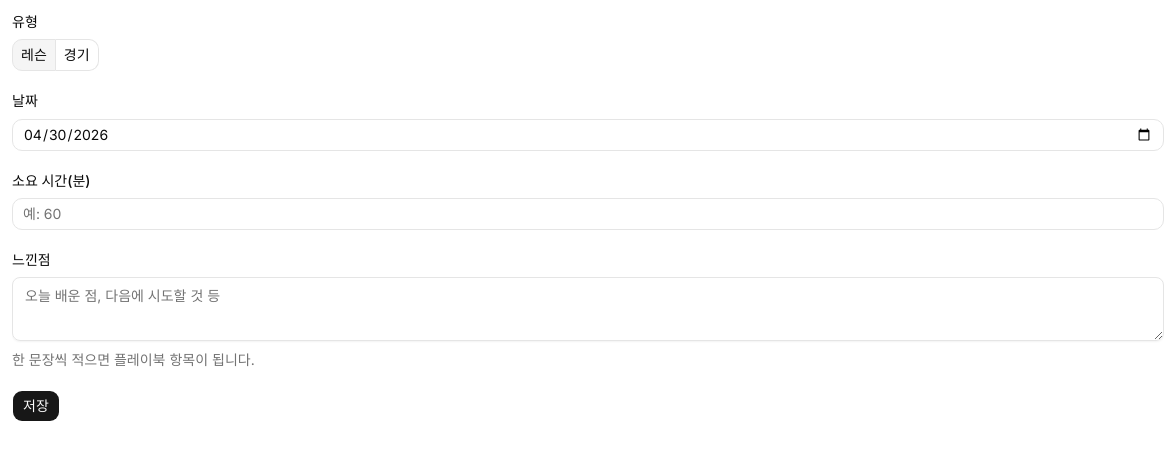
Test case: RecordForm — 레슨 기록 › 0 이하의 소요 시간은 '소요 시간을 입력하세요' 메시지가 표시된다
Type "0" into the number field labelled "소요 시간(분)" at (588, 214), box [12,198,1164,230]
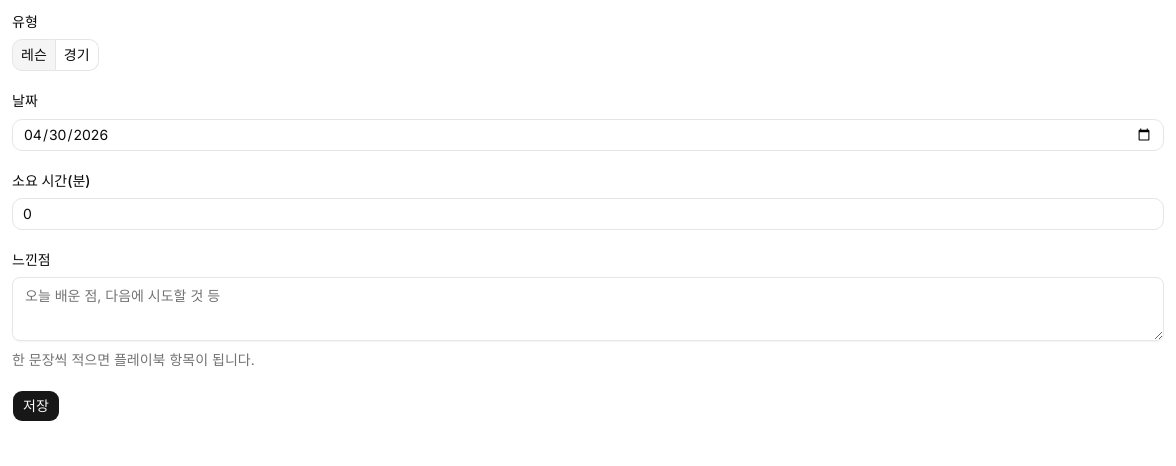
Click the button "저장" at (36, 406), box [12,390,60,422]
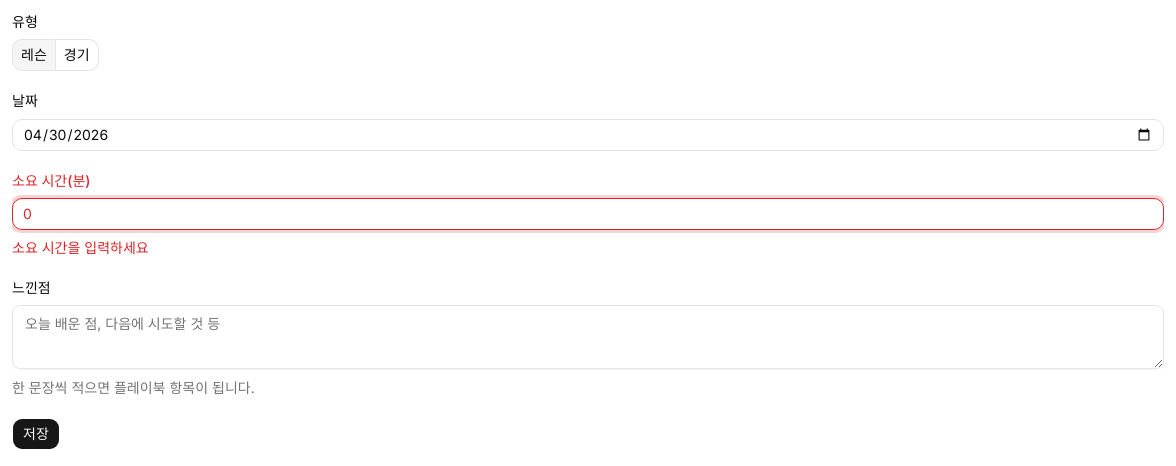
Expected: the text "소요 시간을 입력하세요" is shown, [12,239,149,256]
